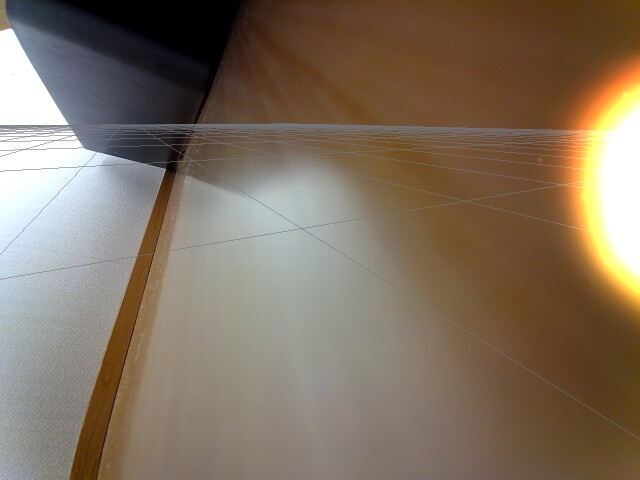fire: (580, 63, 638, 311)
